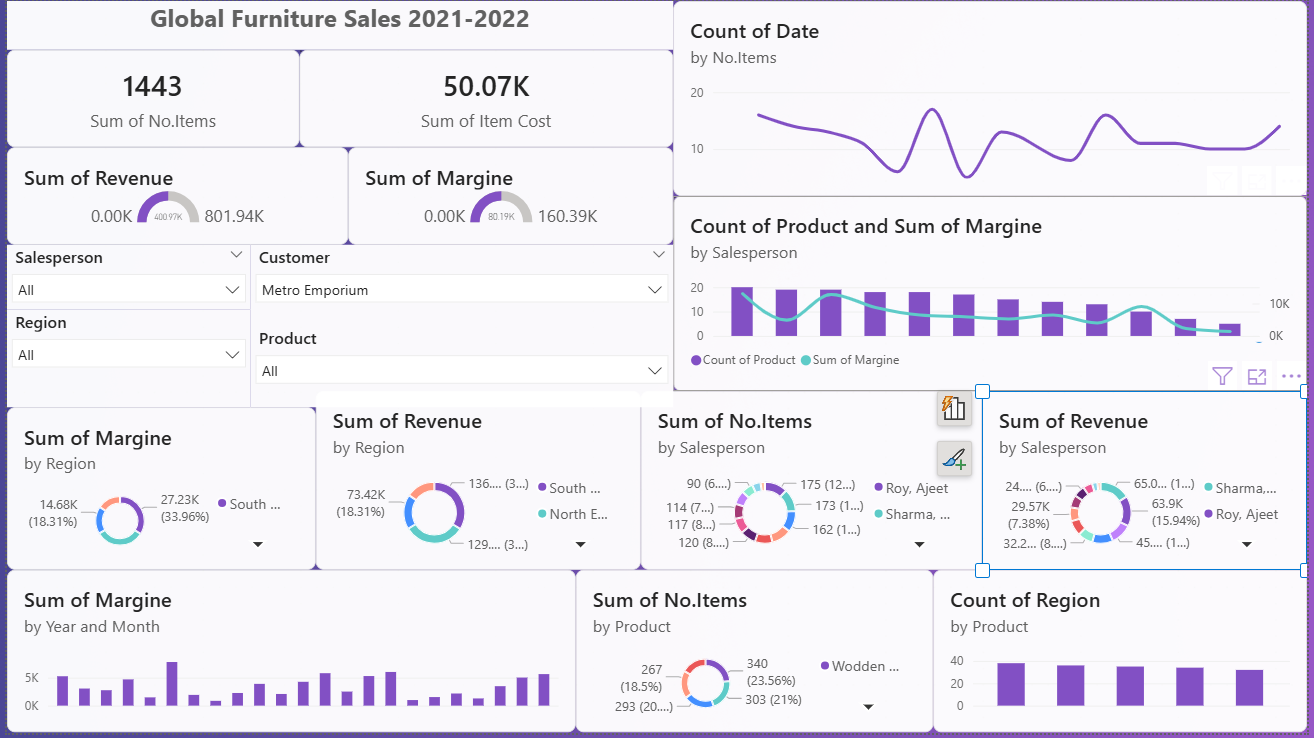

The page's visual inventory and layout, read from the dashboard file:
{"tool":"powerbi","page":{"name":"Page 1","canvas":[1280,720],"ordinal":0},"visuals":[{"type":"textbox","box":[0,0,656,48],"z":0},{"type":"columnChart","fields":{"Category":["Raw_Data.Date.Variation.Date Hierarchy.Year","Raw_Data.Date.Variation.Date Hierarchy.Month"],"Y":["Sum(Raw_Data.Margine)"]},"box":[0,560,560,160],"z":1000},{"type":"donutChart","fields":{"Category":["Raw_Data.Product"],"Y":["Sum(Raw_Data.No.Items)"]},"box":[560,560,352,160],"z":2000},{"type":"columnChart","fields":{"Category":["Raw_Data.Product"],"Y":["CountNonNull(Raw_Data.Region)"]},"box":[912,560,368,160],"z":3000},{"type":"donutChart","fields":{"Category":["Raw_Data.Salesperson"],"Y":["Sum(Raw_Data.Revenue)"]},"box":[960,384,320,176],"z":4000},{"type":"donutChart","fields":{"Category":["Raw_Data.Salesperson"],"Y":["Sum(Raw_Data.No.Items)"]},"box":[624,384,336,176],"z":5000},{"type":"donutChart","fields":{"Category":["Raw_Data.Region"],"Y":["Sum(Raw_Data.Revenue)"]},"box":[304,384,320,176],"z":6000},{"type":"lineClusteredColumnComboChart","fields":{"Category":["Raw_Data.Salesperson"],"Y":["CountNonNull(Raw_Data.Product)"],"Y2":["Sum(Raw_Data.Margine)"]},"box":[656,192,624,192],"z":7000},{"type":"donutChart","fields":{"Category":["Raw_Data.Region"],"Y":["Sum(Raw_Data.Margine)"]},"box":[0,400,304,160],"z":8000},{"type":"slicer","fields":{"Values":["Raw_Data.Customer"]},"box":[240,240,416,80],"z":9000},{"type":"slicer","fields":{"Values":["Raw_Data.Region"]},"box":[0,304,240,96],"z":10000},{"type":"slicer","fields":{"Values":["Raw_Data.Salesperson"]},"box":[0,240,240,64],"z":11000},{"type":"slicer","fields":{"Values":["Raw_Data.Product"]},"box":[240,320,416,80],"z":12000},{"type":"gauge","fields":{"Y":["Sum(Raw_Data.Revenue)"]},"box":[0,144,336,96],"z":13000},{"type":"gauge","fields":{"Y":["Sum(Raw_Data.Margine)"]},"box":[336,144,320,96],"z":14000},{"type":"card","fields":{"Values":["Sum(Raw_Data.No.Items)"]},"box":[0,48,288,96],"z":15000},{"type":"lineChart","fields":{"Category":["Raw_Data.No.Items"],"Y":["CountNonNull(Raw_Data.Date)"]},"box":[656,0,624,192],"z":16000},{"type":"card","fields":{"Values":["Sum(Raw_Data.Item Cost)"]},"box":[288,48,368,96],"z":17000}]}

Visuals, with their boxes in screenshot pixels (x1, y1, x2, y2), scaled from the page's 1280x720 canvas onto the 1314x738 screenshot:
textbox: <region>0, 0, 673, 49</region>
columnChart - Raw_Data.Date.Variation.Date Hierarchy.Year x Raw_Data.Date.Variation.Date Hierarchy.Month: <region>0, 574, 575, 737</region>
donutChart - Raw_Data.Product x Sum(Raw_Data.No.Items): <region>575, 574, 936, 737</region>
columnChart - Raw_Data.Product x CountNonNull(Raw_Data.Region): <region>936, 574, 1313, 737</region>
donutChart - Raw_Data.Salesperson x Sum(Raw_Data.Revenue): <region>986, 394, 1313, 574</region>
donutChart - Raw_Data.Salesperson x Sum(Raw_Data.No.Items): <region>641, 394, 986, 574</region>
donutChart - Raw_Data.Region x Sum(Raw_Data.Revenue): <region>312, 394, 641, 574</region>
lineClusteredColumnComboChart - Raw_Data.Salesperson x CountNonNull(Raw_Data.Product): <region>673, 197, 1313, 394</region>
donutChart - Raw_Data.Region x Sum(Raw_Data.Margine): <region>0, 410, 312, 574</region>
slicer - Raw_Data.Customer: <region>246, 246, 673, 328</region>
slicer - Raw_Data.Region: <region>0, 312, 246, 410</region>
slicer - Raw_Data.Salesperson: <region>0, 246, 246, 312</region>
slicer - Raw_Data.Product: <region>246, 328, 673, 410</region>
gauge - Sum(Raw_Data.Revenue): <region>0, 148, 345, 246</region>
gauge - Sum(Raw_Data.Margine): <region>345, 148, 673, 246</region>
card - Sum(Raw_Data.No.Items): <region>0, 49, 296, 148</region>
lineChart - Raw_Data.No.Items x CountNonNull(Raw_Data.Date): <region>673, 0, 1313, 197</region>
card - Sum(Raw_Data.Item Cost): <region>296, 49, 673, 148</region>
